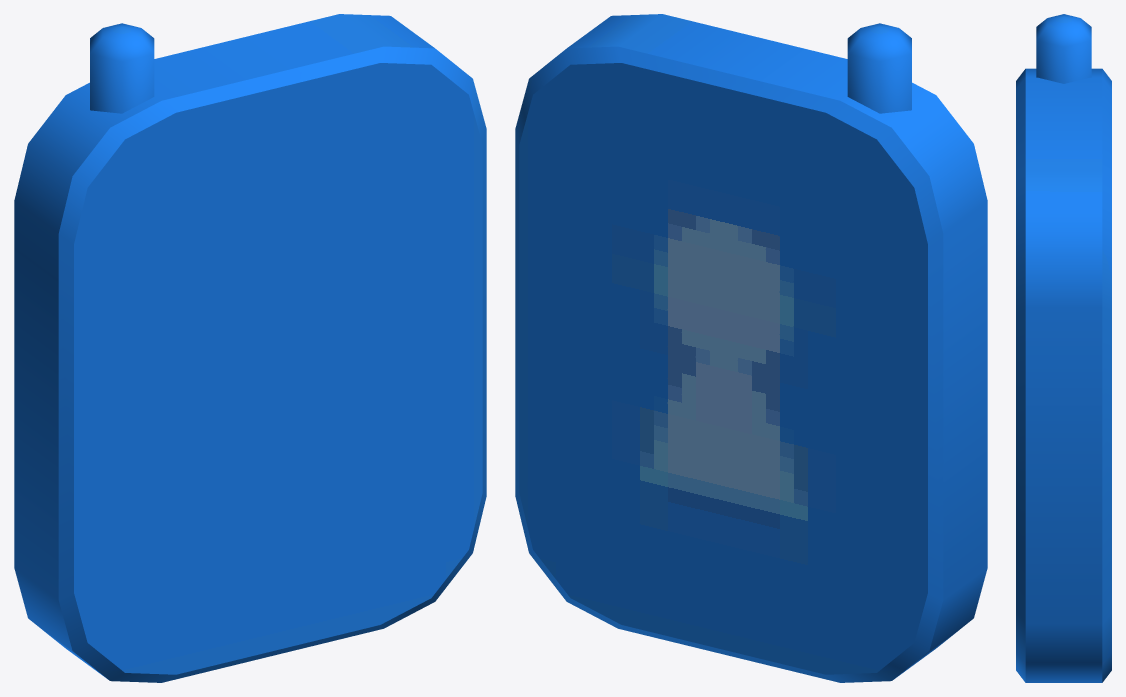
The model's file is Phone.glb.
3 renders of one model, left to right at view 1: azimuth 30°, elevation 25°; view 2: azimuth 150°, elevation 25°; view 3: azimuth 270°, elevation 25°, orthographic. The views are drawn at different scales.
Parts seen in each view (by area): view 1: _0_0_node; view 2: _0_0_node; view 3: _0_0_node.
Part boxes in pixels (x1=…): _0_0_node: x1=14, y1=14, x2=486, y2=682; _0_0_node: x1=515, y1=14, x2=987, y2=682; _0_0_node: x1=1016, y1=14, x2=1111, y2=682.
Size of the model in its own units: 1.84 by 2.64 by 0.4133.
Materials: 1 (1 with a texture image).
